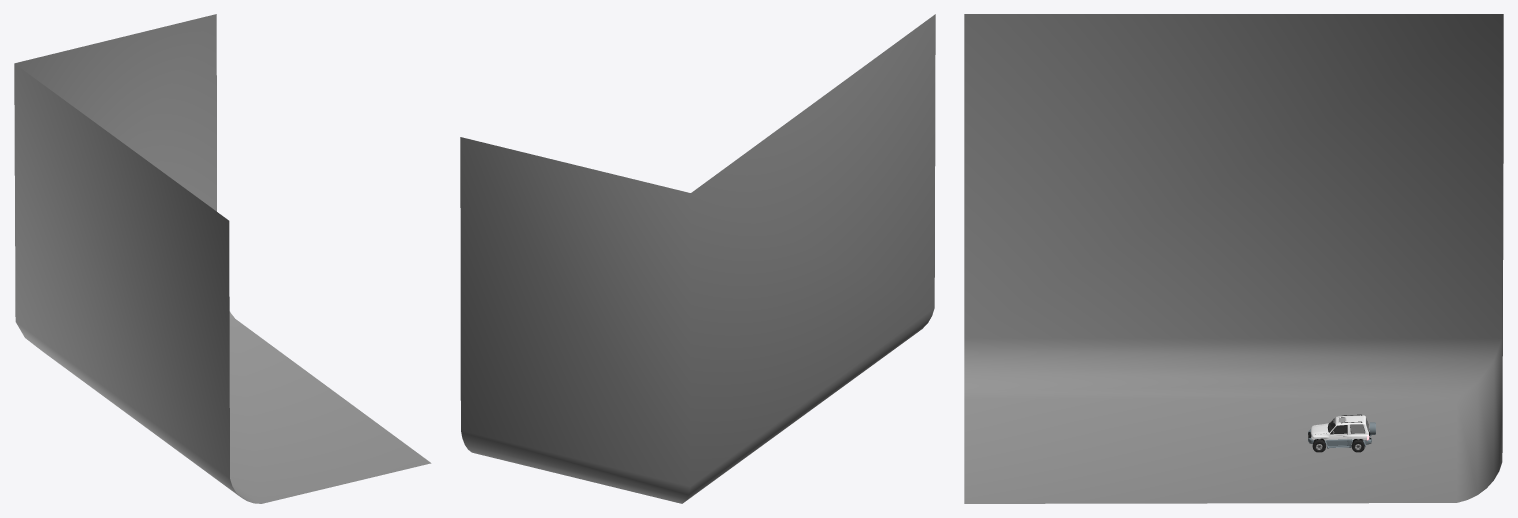
File: mitsubishi-pajero.glb
3 renders of one model, left to right at view 1: azimuth 30°, elevation 25°; view 2: azimuth 150°, elevation 25°; view 3: azimuth 270°, elevation 25°, orthographic. The views are drawn at different scales.
Visible parts, largest first — view 1: Plane.038_8; view 2: Plane.038_8; view 3: Plane.038_8.
Boxes of the visible parts, x1,y1,x2,y2 form: Plane.038_8: (14,14,431,503); Plane.038_8: (460,14,935,503); Plane.038_8: (964,14,1503,503).
Size of the model in its own units: 12.19 by 16.8 by 22.42.
Materials: 20 (1 with a texture image).
